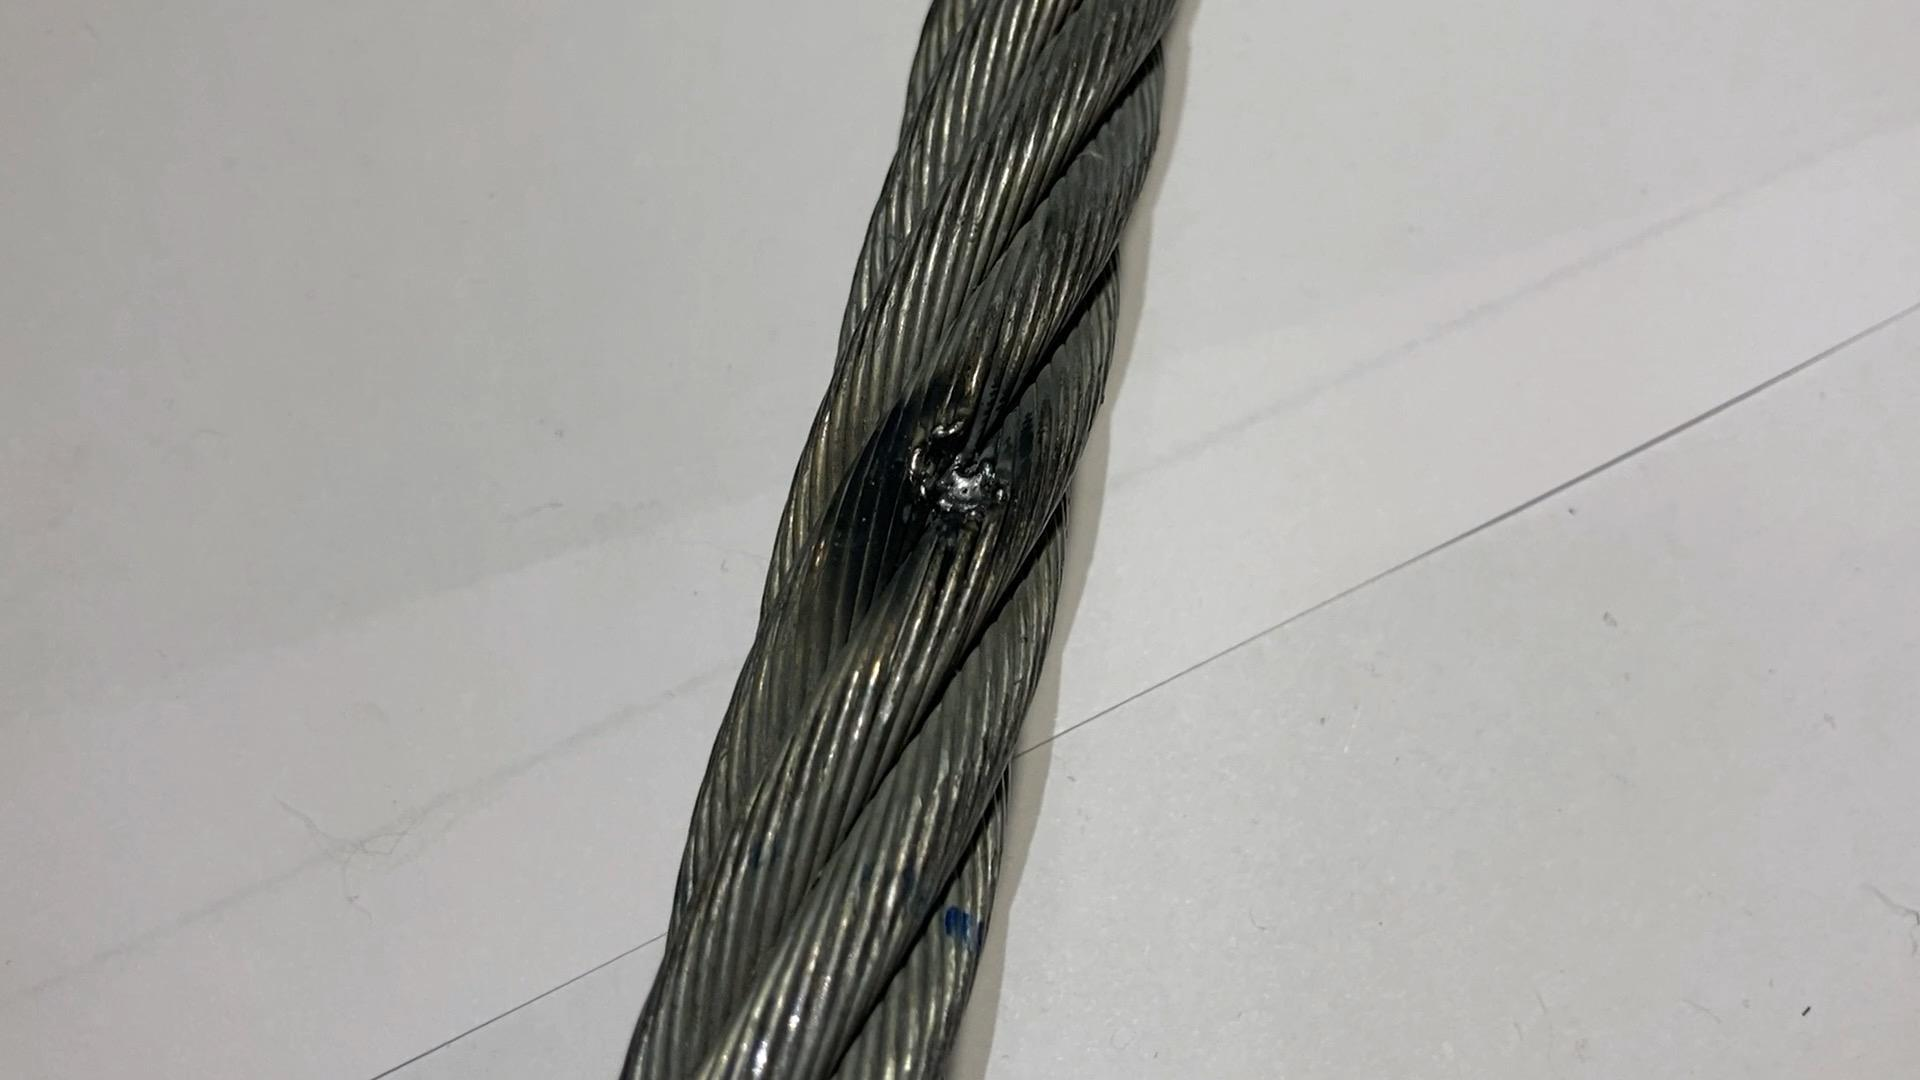thunderbolt: (872, 360, 1040, 533)
